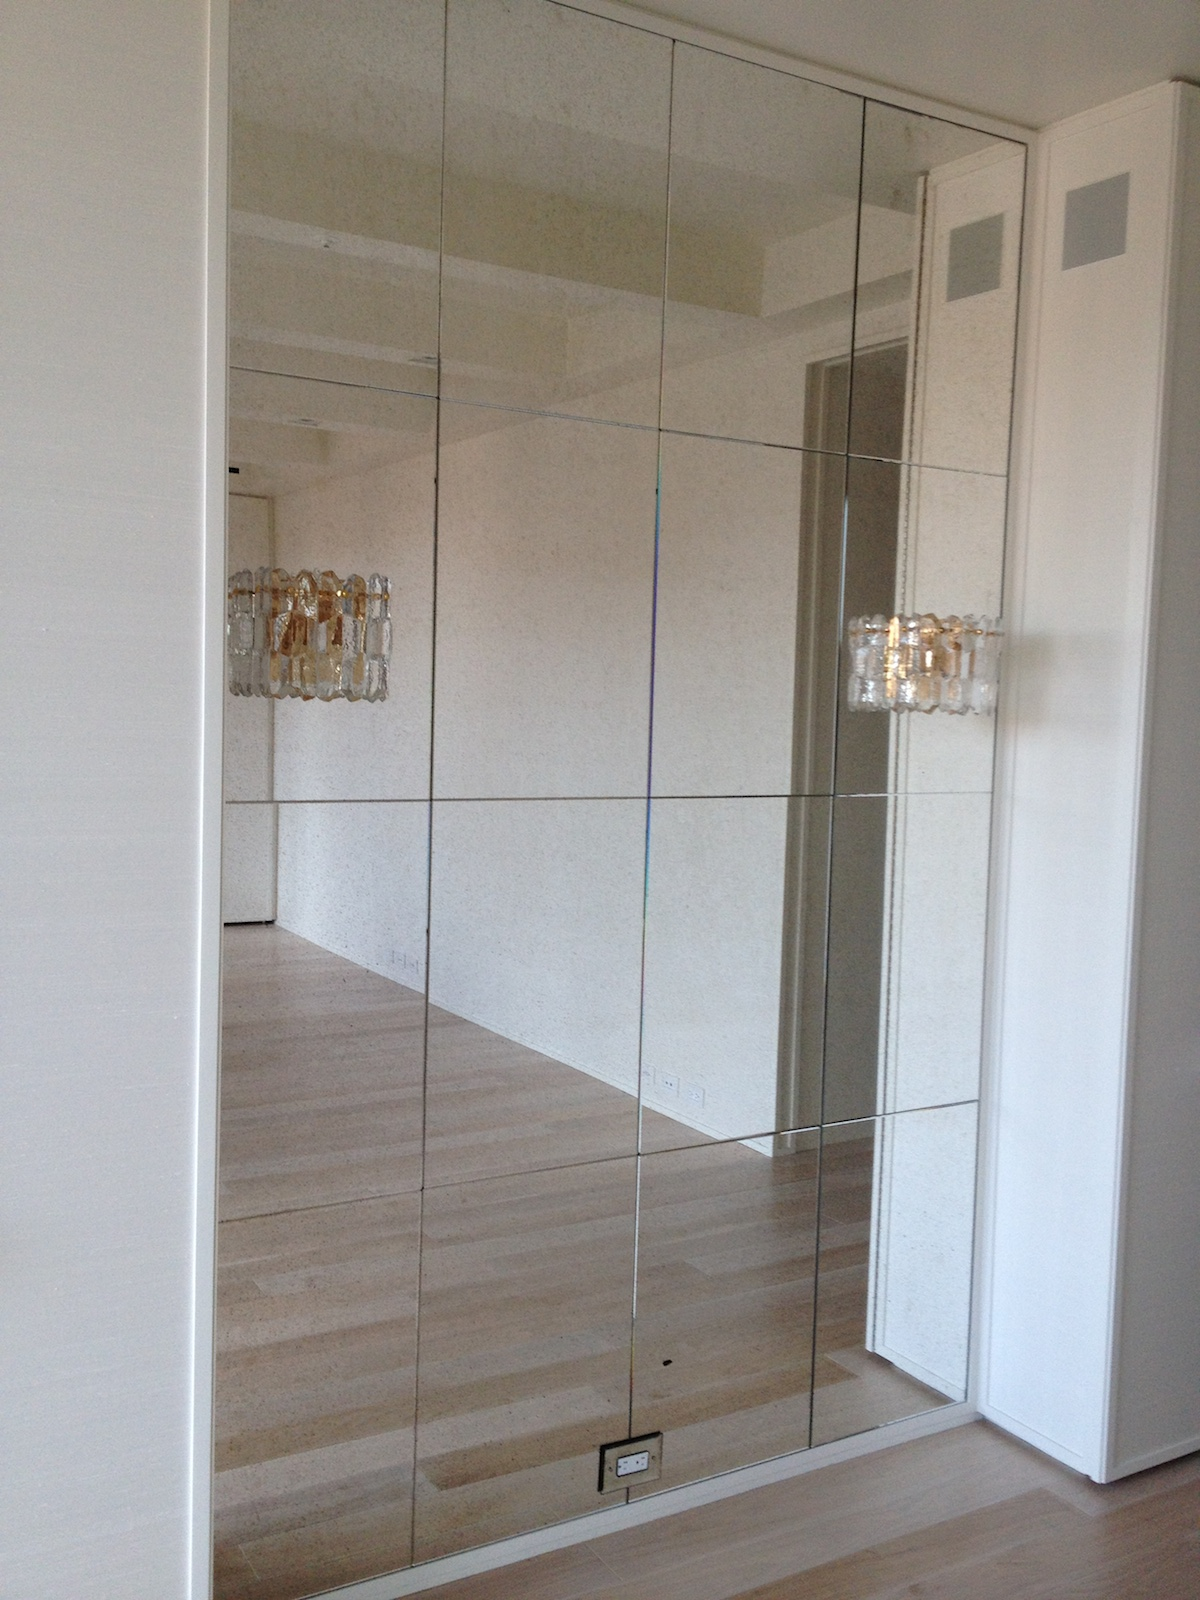Nonrec_Glass: (147, 1, 1039, 1529)
